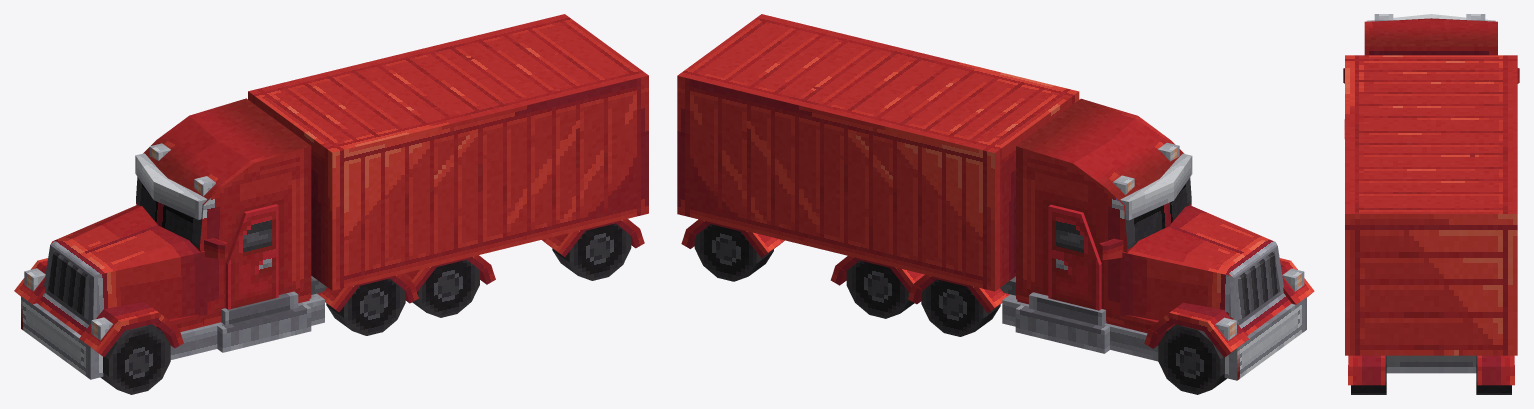
File: truck1_2.gltf
3 renders of one model, left to right at view 1: azimuth 30°, elevation 25°; view 2: azimuth 150°, elevation 25°; view 3: azimuth 270°, elevation 25°, orthographic. The views are drawn at different scales.
Visible parts, largest first — view 1: cube (×11), cuboid (×4), cylinder (×4); view 2: cube (×11), cuboid (×4), cylinder (×4); view 3: cube (×6), cuboid (×2), cylinder (×2).
Part boxes in pixels (box(x1,y1,x2,y2)): cube (×11): box(14, 14, 648, 379); cuboid (×4): box(44, 98, 311, 326); cylinder (×4): box(100, 223, 631, 394); cube (×11): box(677, 14, 1314, 380); cuboid (×4): box(1016, 98, 1283, 327); cylinder (×4): box(694, 224, 1226, 394); cube (×6): box(1345, 55, 1517, 385); cuboid (×2): box(1364, 14, 1497, 55); cylinder (×2): box(1351, 355, 1511, 394).
Bounding box in the file's own units: 12.97 × 4.43 × 3.49.
Materials: 1 (1 with a texture image).
